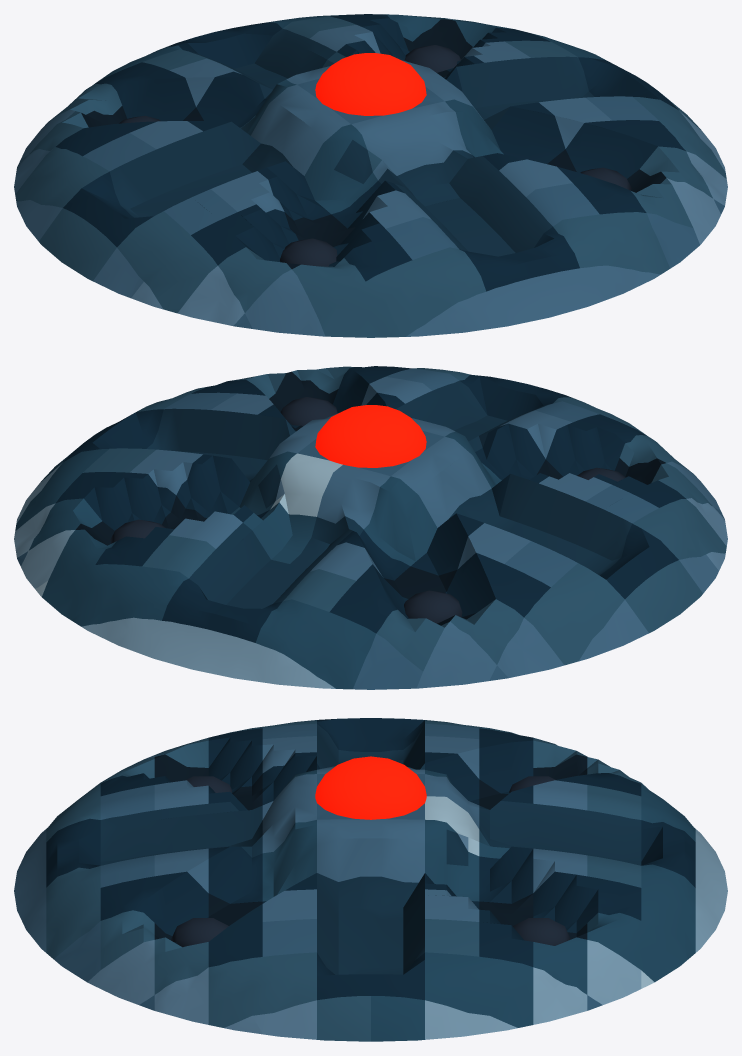
Rendered from fruit_hex_pod.glb.
The picture shows the model from 3 angles, top to bottom: view 1: azimuth 30°, elevation 25°; view 2: azimuth 150°, elevation 25°; view 3: azimuth 270°, elevation 25°; orthographic projection.
Visible parts, largest first — view 1: grille, lamp, bolt-1-1, bolt11, bolt1-1; view 2: grille, lamp, bolt-11, bolt1-1, bolt11; view 3: grille, lamp, bolt11, bolt1-1.
Boxes of the visible parts, x1,y1,x2,y2 form: grille: [14, 14, 727, 337]; lamp: [315, 53, 426, 115]; bolt-1-1: [280, 238, 337, 266]; bolt11: [405, 45, 460, 72]; bolt1-1: [580, 167, 631, 190]; grille: [14, 366, 727, 689]; lamp: [315, 405, 426, 467]; bolt-11: [404, 590, 462, 623]; bolt1-1: [280, 397, 337, 425]; bolt11: [110, 519, 165, 543]; grille: [14, 718, 727, 1041]; lamp: [315, 756, 426, 819]; bolt11: [513, 918, 570, 945]; bolt1-1: [171, 918, 228, 947].
Bounding box in the file's own units: 13.2 × 2.6 × 13.2.
